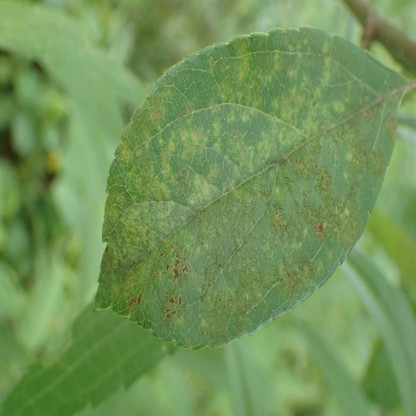scab: (95, 28, 398, 346)
